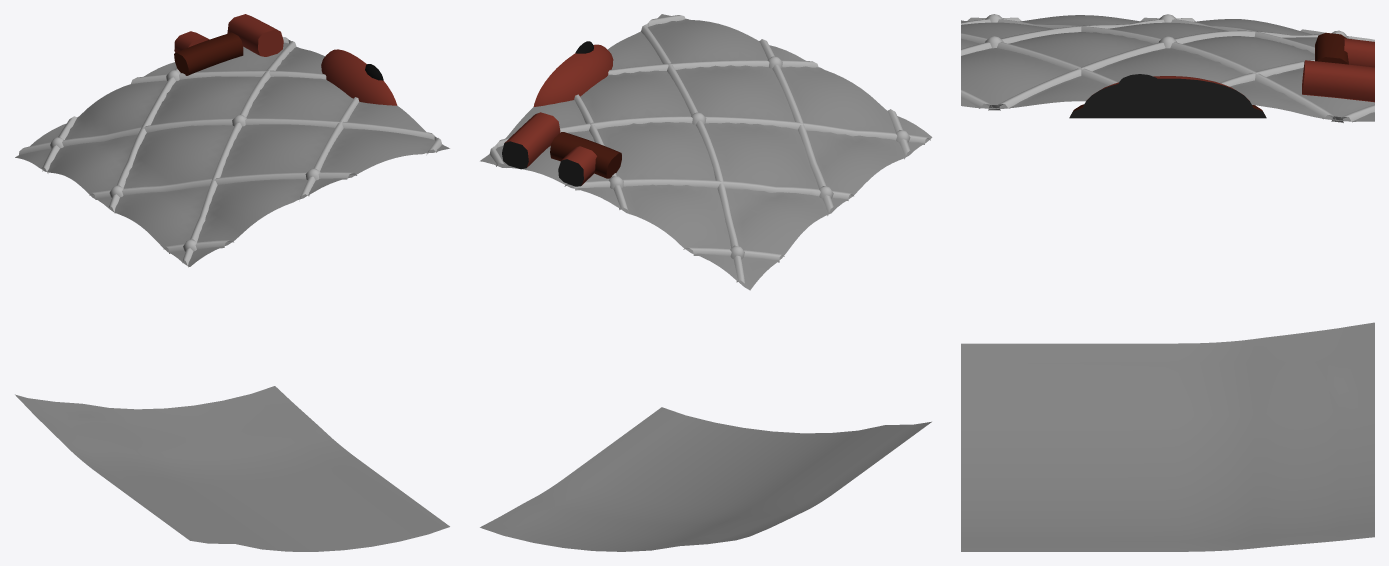
Rendered from zeppelin_79.glb.
The picture shows the model from 3 angles, left to right: view 1: azimuth 30°, elevation 25°; view 2: azimuth 150°, elevation 25°; view 3: azimuth 270°, elevation 25°; orthographic projection. The views are drawn at different scales.
Parts seen in each view (by area): view 1: envelope.001, net_ropes.001, pod.001, gate_foot_l.001, gate_leg_in_l.001, net_knots.001; view 2: envelope.001, net_ropes.001, pod.001, gate_leg_in_l.001, gate_foot_l.001, gate_leg_out_l.001, net_knots.001; view 3: envelope.001, net_ropes.001, pod.001, gate_leg_in_l.001, pod_collar.001, gate_foot_l.001, gate_leg_out_l.001, net_knots.001, pod_visor.001.
Boxes of the visible parts, bbox=[...] form: envelope.001: bbox=[15, 42, 449, 551]; net_ropes.001: bbox=[19, 37, 441, 267]; pod.001: bbox=[321, 49, 397, 105]; gate_foot_l.001: bbox=[174, 32, 243, 75]; gate_leg_in_l.001: bbox=[227, 14, 283, 56]; net_knots.001: bbox=[50, 40, 437, 251]; envelope.001: bbox=[480, 14, 932, 551]; net_ropes.001: bbox=[489, 15, 930, 283]; pod.001: bbox=[533, 44, 613, 106]; gate_leg_in_l.001: bbox=[502, 112, 560, 169]; gate_foot_l.001: bbox=[550, 132, 621, 178]; gate_leg_out_l.001: bbox=[558, 146, 596, 186]; net_knots.001: bbox=[494, 23, 910, 259]; envelope.001: bbox=[961, 15, 1374, 551]; net_ropes.001: bbox=[961, 17, 1374, 122]; pod.001: bbox=[1081, 76, 1254, 116]; gate_leg_in_l.001: bbox=[1302, 60, 1374, 102]; pod_collar.001: bbox=[1069, 102, 1266, 118]; gate_foot_l.001: bbox=[1315, 32, 1348, 64]; gate_leg_out_l.001: bbox=[1343, 38, 1374, 67]; net_knots.001: bbox=[985, 14, 1347, 122]; pod_visor.001: bbox=[1118, 74, 1158, 93].
Bounding box in the file's own units: 24 × 35.91 × 28.
